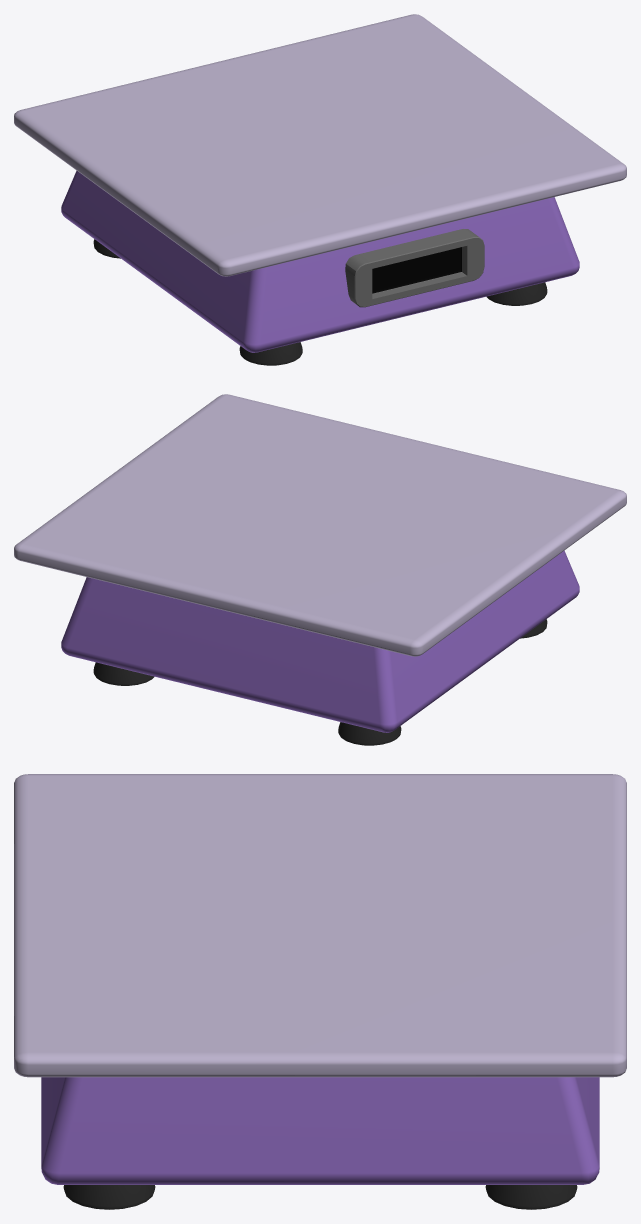
The model's file is Coincraft_Weighing_Scale.fbx.
The picture shows the model from 3 angles, top to bottom: view 1: azimuth 30°, elevation 25°; view 2: azimuth 150°, elevation 25°; view 3: azimuth 270°, elevation 25°; orthographic projection. The views are drawn at different scales.
Parts seen in each view (by area): view 1: Weighing_Scale; view 2: Weighing_Scale; view 3: Weighing_Scale.
Boxes of the visible parts, x1,y1,x2,y2 form: Weighing_Scale: (14,14,626,365); Weighing_Scale: (14,394,626,745); Weighing_Scale: (14,774,626,1209).
Bounding box in the file's own units: 42.51 × 13.21 × 38.27.
